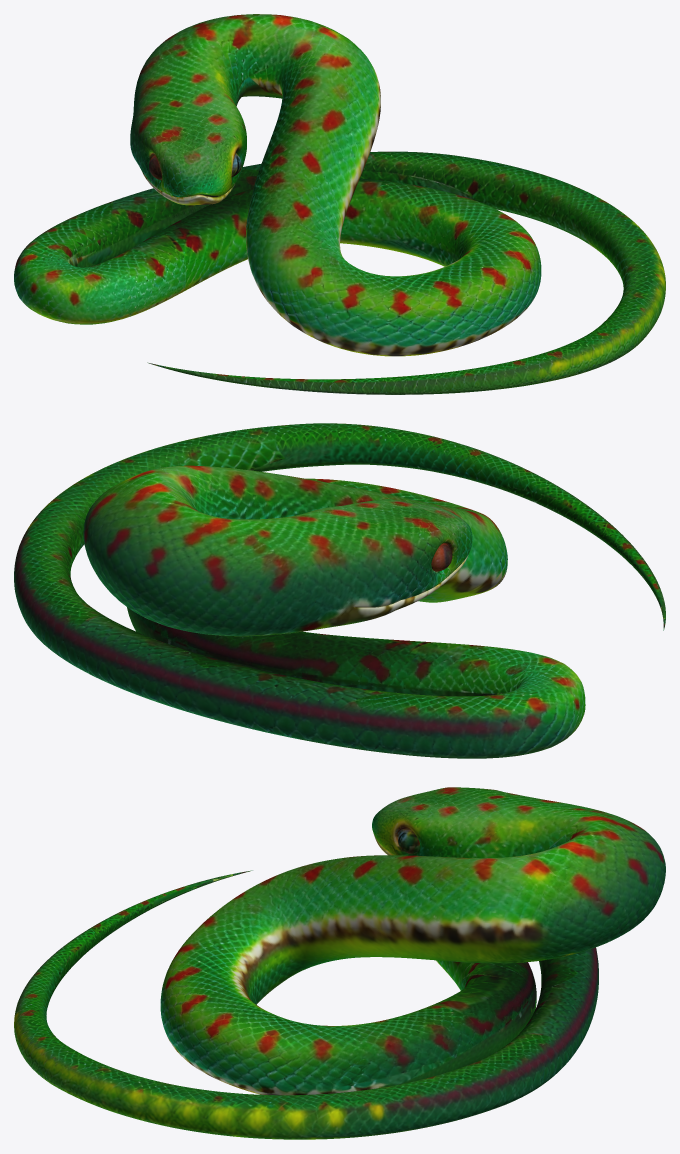
The model's file is pit viper.glb.
3 renders of one model, top to bottom at view 1: azimuth 30°, elevation 25°; view 2: azimuth 150°, elevation 25°; view 3: azimuth 270°, elevation 25°, orthographic. The views are drawn at different scales.
Visible parts, largest first — view 1: Object_4; view 2: Object_4; view 3: Object_4.
Part boxes in pixels (x1,y1,x2,y2): Object_4: [14, 14, 665, 394]; Object_4: [14, 423, 665, 758]; Object_4: [14, 787, 665, 1139].
Bounding box in the file's own units: 9.53 × 3.34 × 9.74.
Materials: 1 (1 with a texture image).
